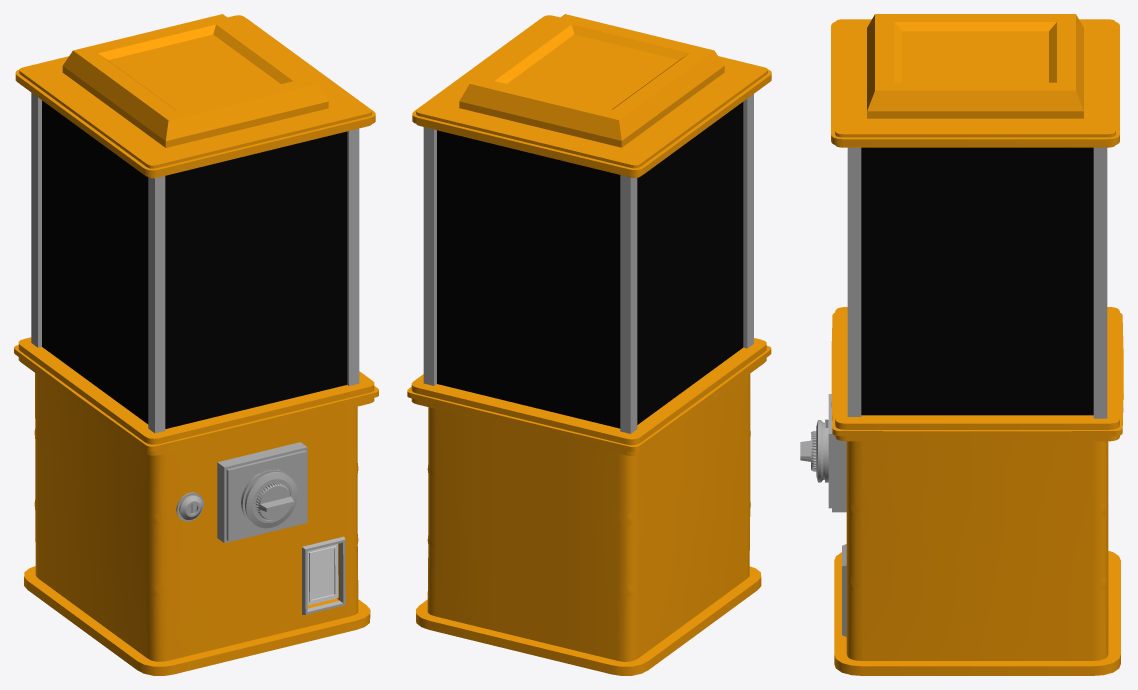
3 views of the same model, side by side, from view 1: azimuth 30°, elevation 25°; view 2: azimuth 150°, elevation 25°; view 3: azimuth 270°, elevation 25° (orthographic). The views are drawn at different scales.
Visible parts, largest first — view 1: main box(yellow), glass4, Box001, glass3, metal box, stick3, stick4, stick2, handle, red cover, metal frame, key hole; view 2: main box(yellow), glass1, Box001, glass3, stick2, stick, stick3; view 3: main box(yellow), glass2, Box001, stick, stick4, metal box, handle.
Part boxes in pixels (bbox=[...]): main box(yellow): bbox=[14, 337, 378, 675]; glass4: bbox=[165, 131, 347, 428]; Box001: bbox=[15, 14, 375, 178]; glass3: bbox=[42, 100, 148, 424]; metal box: bbox=[217, 442, 307, 543]; stick3: bbox=[148, 176, 165, 433]; stick4: bbox=[347, 128, 359, 385]; stick2: bbox=[31, 92, 41, 347]; handle: bbox=[241, 469, 297, 528]; red cover: bbox=[307, 544, 338, 605]; metal frame: bbox=[302, 536, 345, 614]; key hole: bbox=[176, 492, 203, 521]; main box(yellow): bbox=[407, 338, 771, 675]; glass1: bbox=[437, 130, 620, 428]; Box001: bbox=[412, 14, 771, 177]; glass3: bbox=[637, 102, 743, 424]; stick2: bbox=[620, 175, 637, 433]; stick: bbox=[423, 127, 436, 385]; stick3: bbox=[743, 94, 753, 348]; main box(yellow): bbox=[831, 307, 1123, 675]; glass2: bbox=[861, 147, 1093, 415]; Box001: bbox=[831, 14, 1119, 147]; stick: bbox=[1093, 147, 1107, 418]; stick4: bbox=[847, 147, 861, 416]; metal box: bbox=[828, 394, 846, 512]; handle: bbox=[800, 419, 828, 482].
Bounding box in the file's own units: 35.54 × 77.82 × 40.45.
